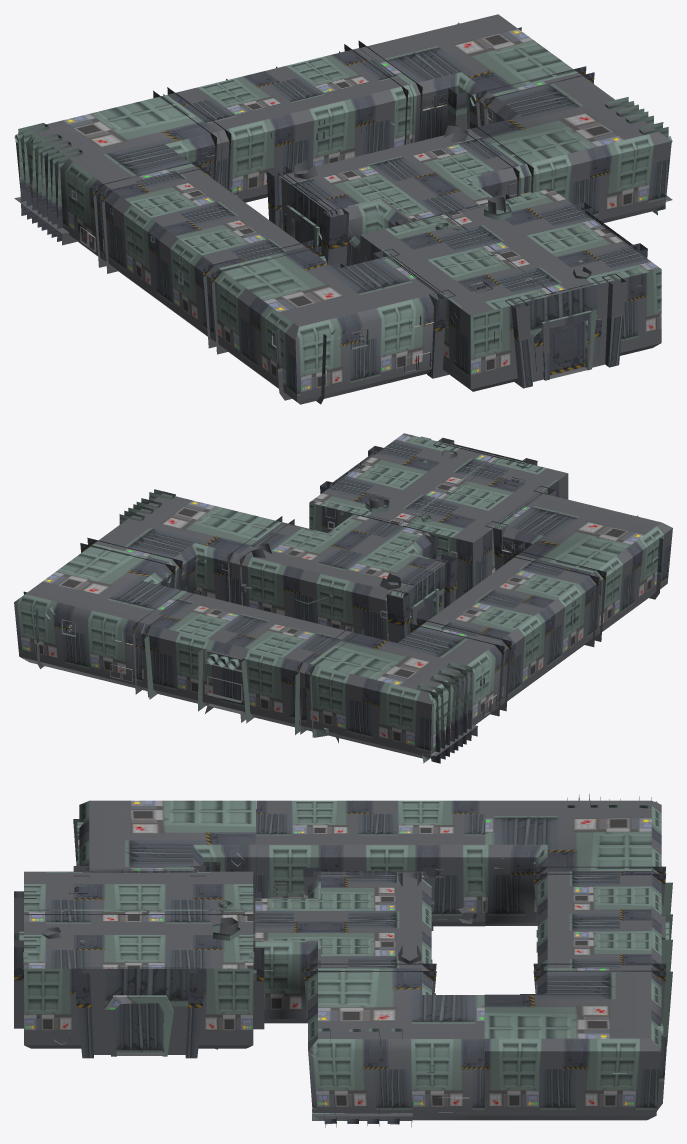
The model's file is Combined_Mesh_root_scene__19_0bed480f__zombies2_diffuse_06_4771cff4_c1f257.obj.
3 views of the same model, one above another, from view 1: azimuth 30°, elevation 25°; view 2: azimuth 150°, elevation 25°; view 3: azimuth 270°, elevation 25° (orthographic). The views are drawn at different scales.
Size of the model in its own units: 51.83 by 9.64 by 57.53.
Materials: 123 (123 with a texture image).
